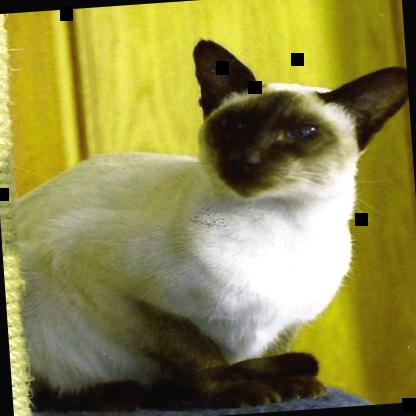cat: (2, 25, 415, 415)
